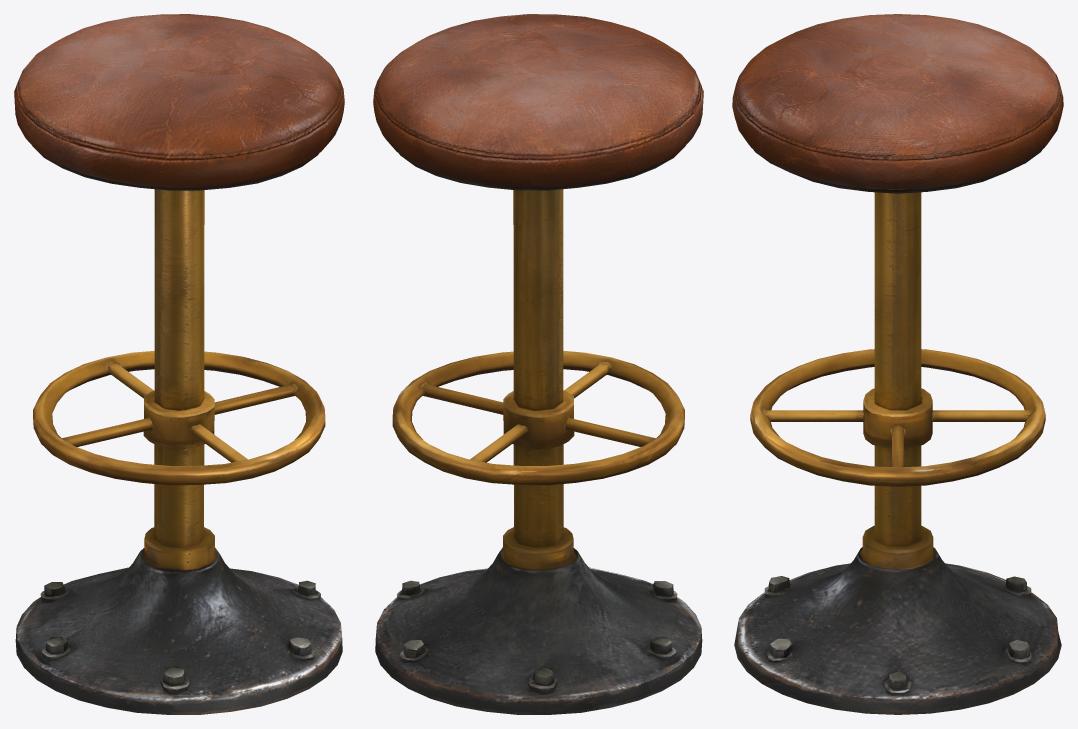
Rendered from fuzeball_saucer_stool.glb.
3 views of the same model, side by side, from view 1: azimuth 30°, elevation 25°; view 2: azimuth 150°, elevation 25°; view 3: azimuth 270°, elevation 25° (orthographic).
Visible parts, largest first — view 1: tripo_node_07242284-dcd7-4c01-9cfd-9c04a7ebfdbf; view 2: tripo_node_07242284-dcd7-4c01-9cfd-9c04a7ebfdbf; view 3: tripo_node_07242284-dcd7-4c01-9cfd-9c04a7ebfdbf.
Boxes of the visible parts, box(x1,y1,x2,y2) form: tripo_node_07242284-dcd7-4c01-9cfd-9c04a7ebfdbf: box(14, 14, 344, 714); tripo_node_07242284-dcd7-4c01-9cfd-9c04a7ebfdbf: box(373, 14, 703, 714); tripo_node_07242284-dcd7-4c01-9cfd-9c04a7ebfdbf: box(732, 14, 1063, 714).
Bounding box in the file's own units: 0.5122 × 0.9995 × 0.5122.
1 material, 1 textured.
